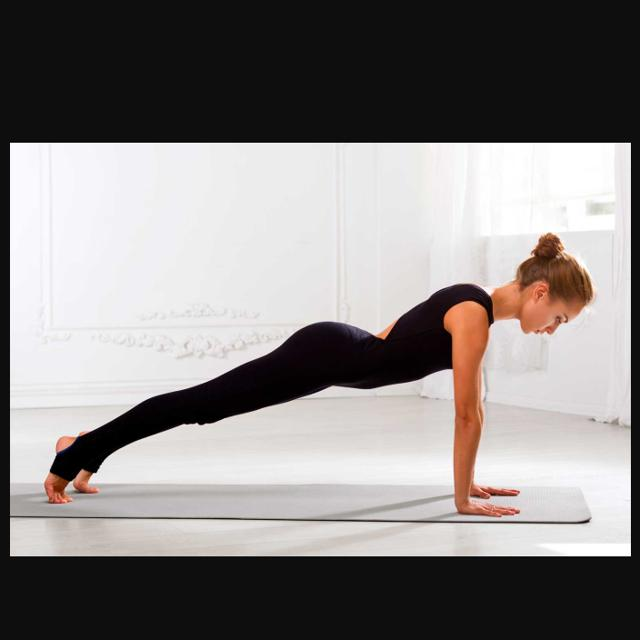Plank_Pose: (33, 228, 602, 518)
